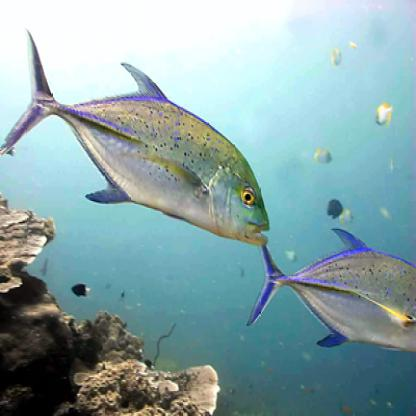jack: (8, 26, 274, 252), (244, 219, 416, 353)
